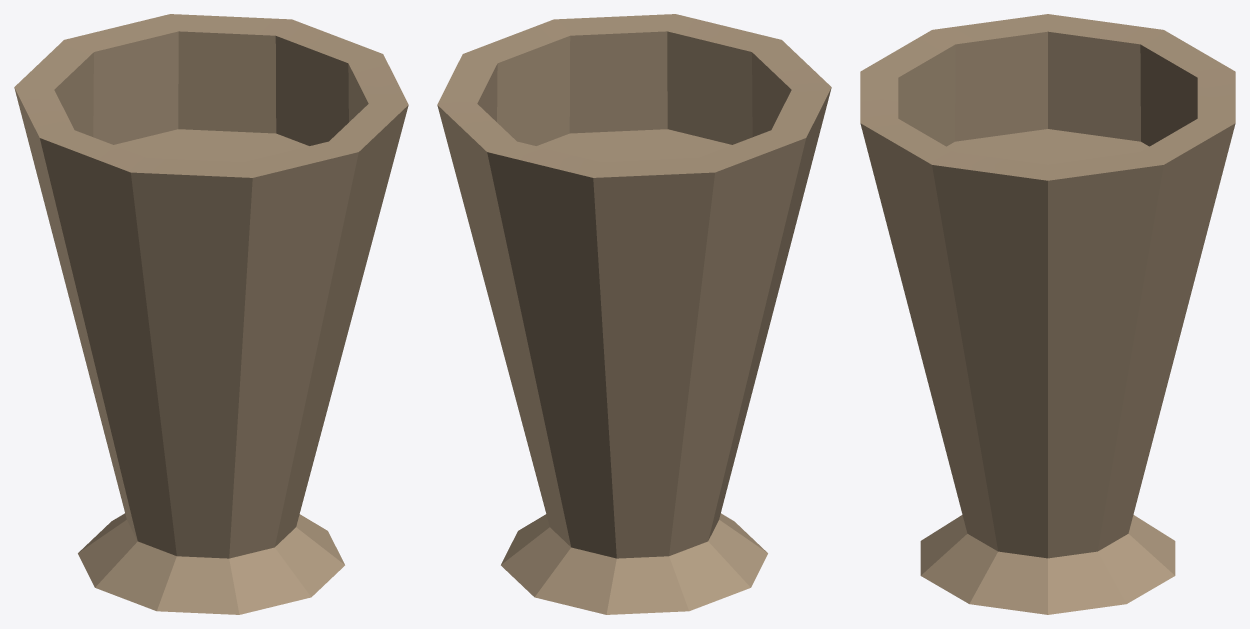
The model's file is Jarron 1.fbx.
3 renders of one model, left to right at view 1: azimuth 30°, elevation 25°; view 2: azimuth 150°, elevation 25°; view 3: azimuth 270°, elevation 25°, orthographic.
Parts seen in each view (by area): view 1: Jarron_1; view 2: Jarron_1; view 3: Jarron_1.
Part boxes in pixels (x1,y1,x2,y2): Jarron_1: (14,14,408,614); Jarron_1: (437,14,831,614); Jarron_1: (860,14,1235,614).
Size of the model in its own units: 0.8603 by 1.11 by 0.8181.
